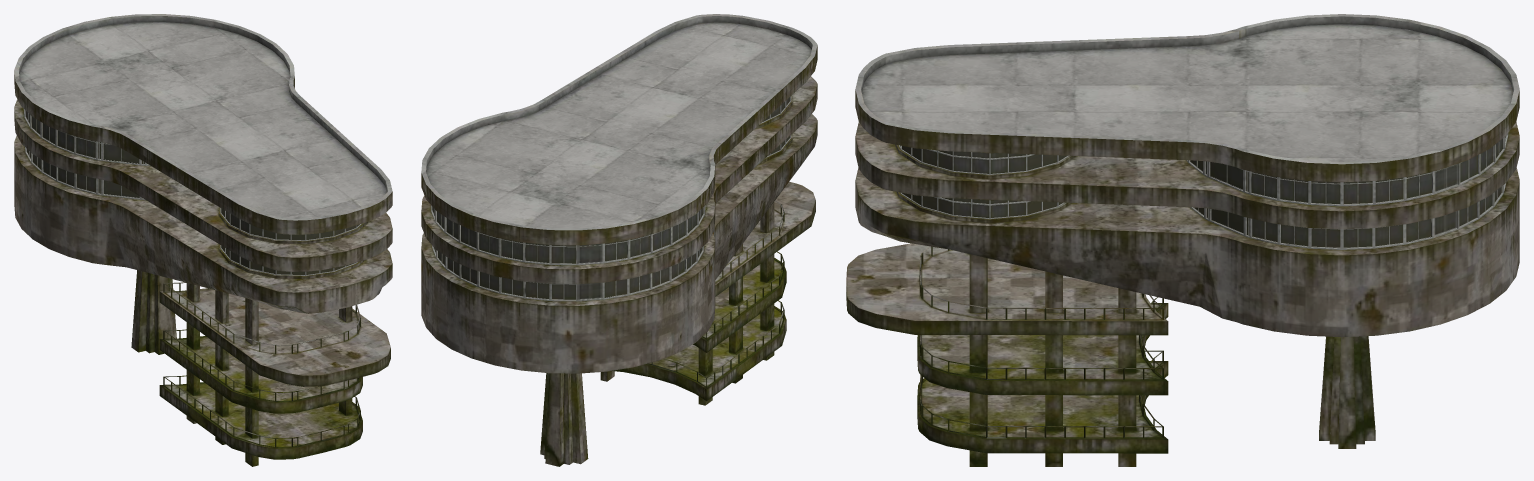
File: flood-brutalist-building.glb
3 renders of one model, left to right at view 1: azimuth 30°, elevation 25°; view 2: azimuth 150°, elevation 25°; view 3: azimuth 270°, elevation 25°, orthographic. The views are drawn at different scales.
Visible parts, largest first — view 1: flood-brutalist-building; view 2: flood-brutalist-building; view 3: flood-brutalist-building.
Boxes of the visible parts, left/top/right/bottom form: flood-brutalist-building: left=14, top=14, right=392, bottom=466; flood-brutalist-building: left=421, top=14, right=817, bottom=466; flood-brutalist-building: left=846, top=14, right=1519, bottom=466.
Size of the model in its own units: 12.2 by 13.12 by 23.1.
Materials: 1 (1 with a texture image).
